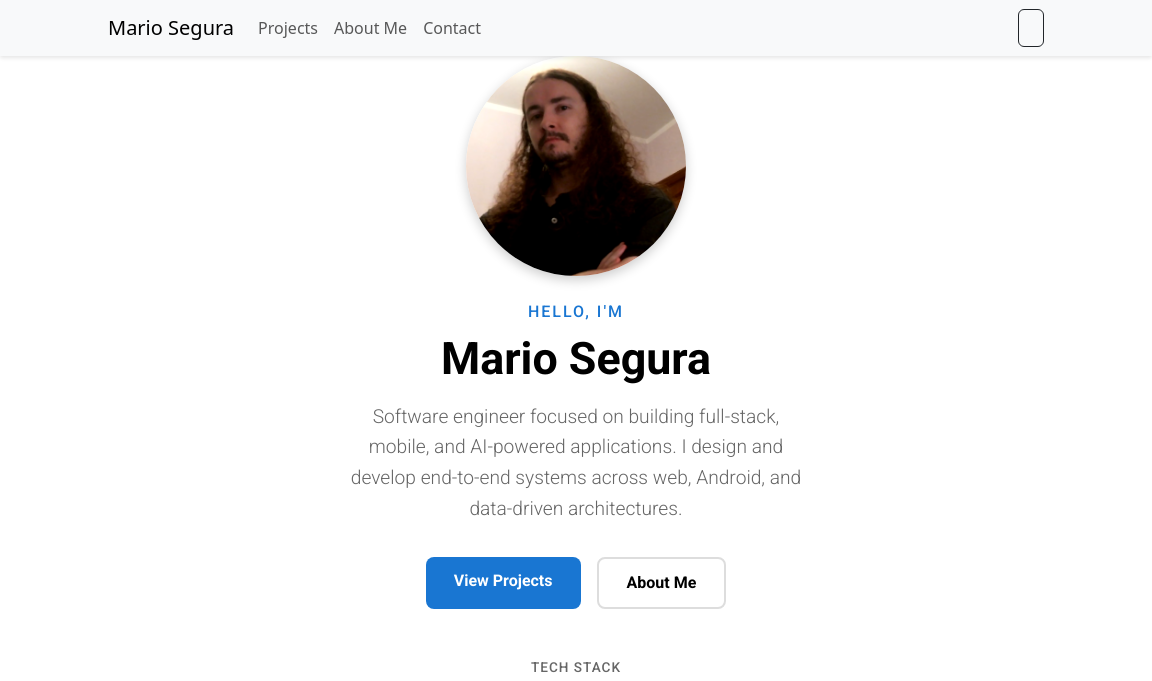
Test: Home page › navigates to Projects with a client-side link
Click the link "View Projects" at (503, 583), box [426,557,580,609]
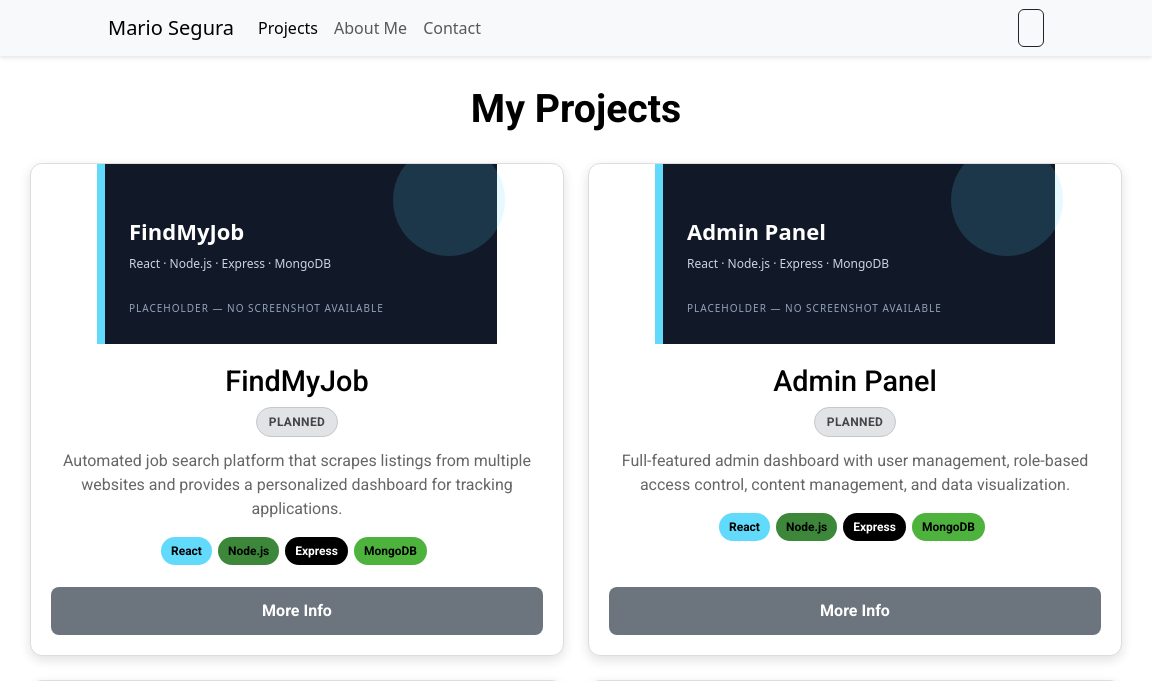
Expected: the heading "My Projects" is shown, [471,86,681,132]
